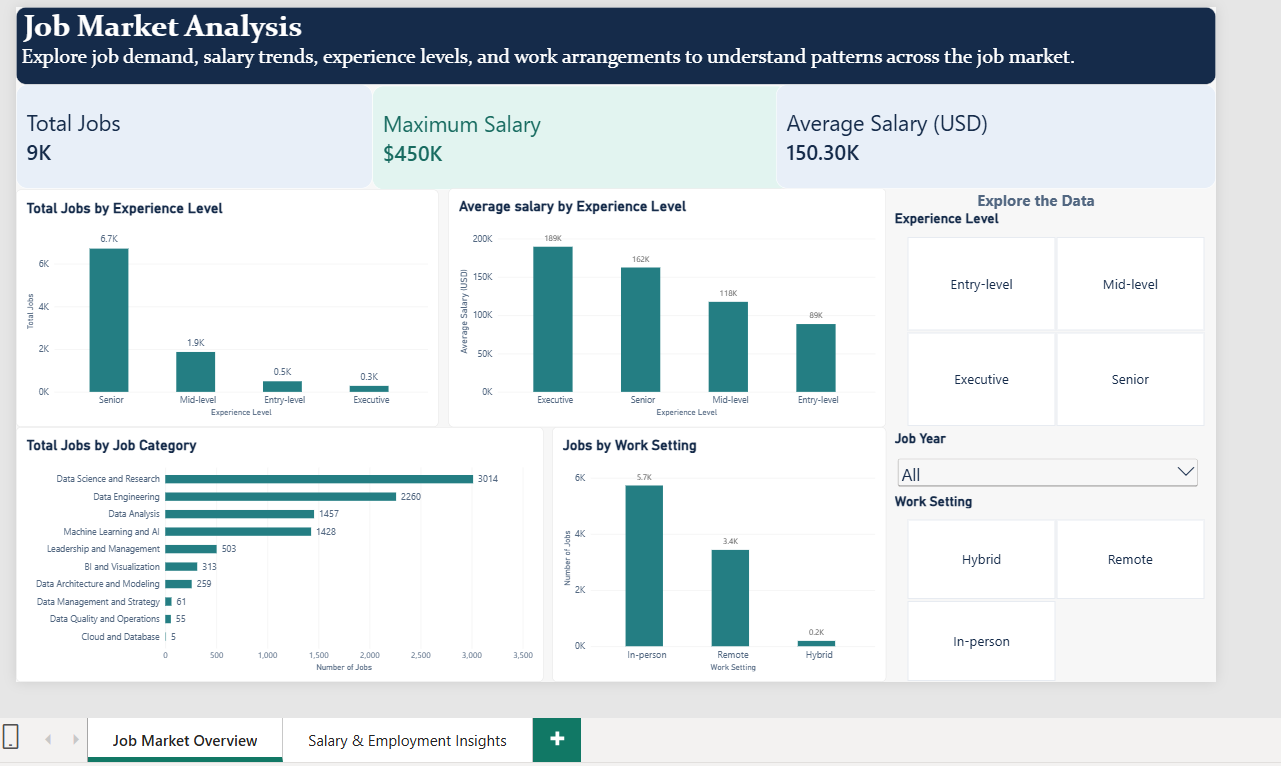

The dashboard page shown, as its layout file describes it:
{"tool":"powerbi","page":{"name":"Job Market Overview","canvas":[1920,1080],"ordinal":0},"visuals":[{"type":"cardVisual","fields":{"Data":["JobData.Total Jobs"]},"box":[0,124,570,166],"z":0},{"type":"cardVisual","fields":{"Data":["JobData.Maximum Salary"]},"box":[570,126,666,166],"z":1000},{"type":"clusteredColumnChart","title":"Total Jobs by Experience Level","fields":{"Category":["JobData.experience_level"],"Y":["JobData.Total Jobs"]},"box":[0,292,676,380],"z":2000},{"type":"clusteredColumnChart","title":"Average salary by Experience Level","fields":{"Category":["JobData.experience_level"],"Y":["Avg(JobData.salary_in_usd)"]},"box":[692,290,700,382],"z":3000},{"type":"clusteredBarChart","title":"Total Jobs by Job Category","fields":{"Category":["JobData.job_category"],"Y":["CountNonNull(JobData.job_category)"]},"box":[0,672,844,408],"z":4000},{"type":"cardVisual","fields":{"Data":["Avg(JobData.salary_in_usd)"]},"box":[1216,124,704,166],"z":5000},{"type":"clusteredColumnChart","title":"Jobs by Work Setting","fields":{"Category":["JobData.work_setting"],"Y":["CountNonNull(JobData.job_title)"]},"box":[858,672,534,408],"z":6000},{"type":"slicer","title":"Experience Level","fields":{"Values":["JobData.experience_level"]},"box":[1406,326,514,346],"z":7000},{"type":"slicer","title":"Work Setting","fields":{"Values":["JobData.work_setting"]},"box":[1406,778,514,302],"z":8000},{"type":"slicer","title":"Job Year","fields":{"Values":["JobData.work_year"]},"box":[1406,678,490,120],"z":9000},{"type":"textbox","box":[0,0,1920,124],"z":10000},{"type":"textbox","box":[1537.8,291.1,234,46],"z":11000}]}

Visuals, with their boxes on the page's 1920x1080 design canvas (x1, y1, x2, y2). These are canvas units, not pixel positions in the 1281x766 screenshot, which may show the page scaled, cropped or inside an application window:
cardVisual - JobData.Total Jobs: <region>0, 124, 570, 290</region>
cardVisual - JobData.Maximum Salary: <region>570, 126, 1236, 292</region>
"Total Jobs by Experience Level" clusteredColumnChart: <region>0, 292, 676, 672</region>
"Average salary by Experience Level" clusteredColumnChart: <region>692, 290, 1392, 672</region>
"Total Jobs by Job Category" clusteredBarChart: <region>0, 672, 844, 1080</region>
cardVisual - Avg(JobData.salary_in_usd): <region>1216, 124, 1920, 290</region>
"Jobs by Work Setting" clusteredColumnChart: <region>858, 672, 1392, 1080</region>
"Experience Level" slicer: <region>1406, 326, 1920, 672</region>
"Work Setting" slicer: <region>1406, 778, 1920, 1080</region>
"Job Year" slicer: <region>1406, 678, 1896, 798</region>
textbox: <region>0, 0, 1920, 124</region>
textbox: <region>1538, 291, 1772, 337</region>
